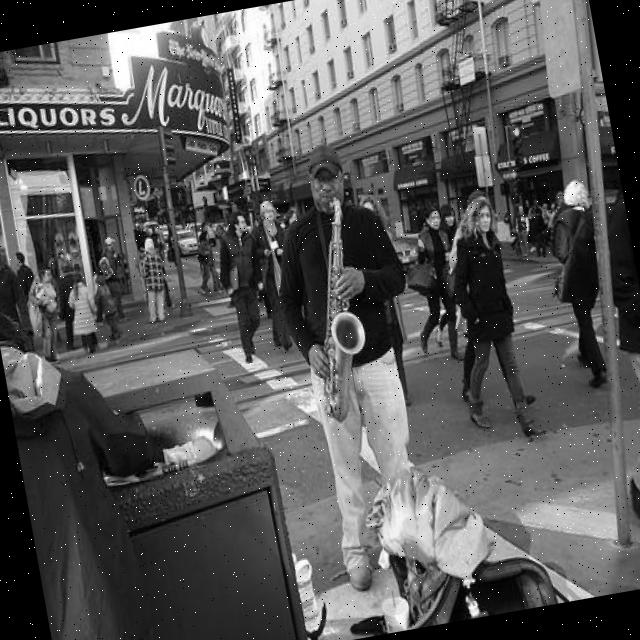saxophone: (286, 192, 384, 427)
